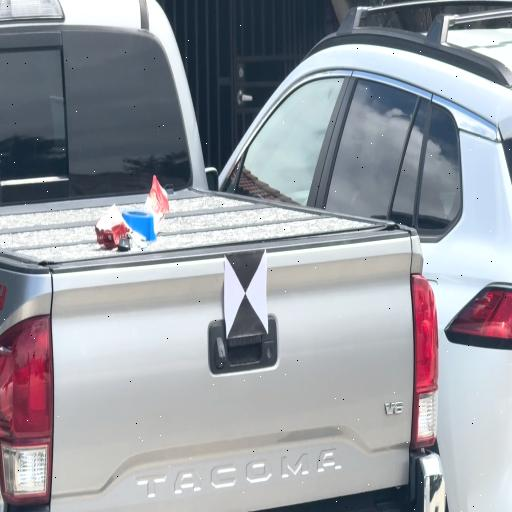target: (225, 254, 268, 333)
